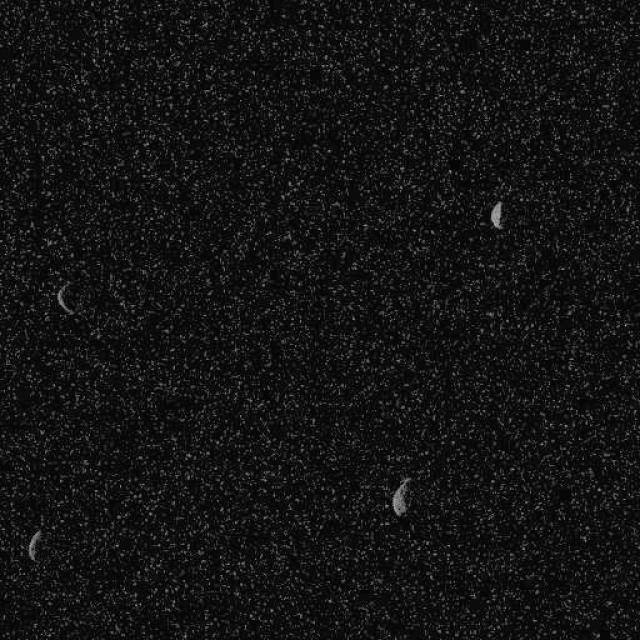D2: (390, 477, 412, 518), (55, 282, 75, 316), (27, 528, 42, 562), (488, 200, 504, 229)
